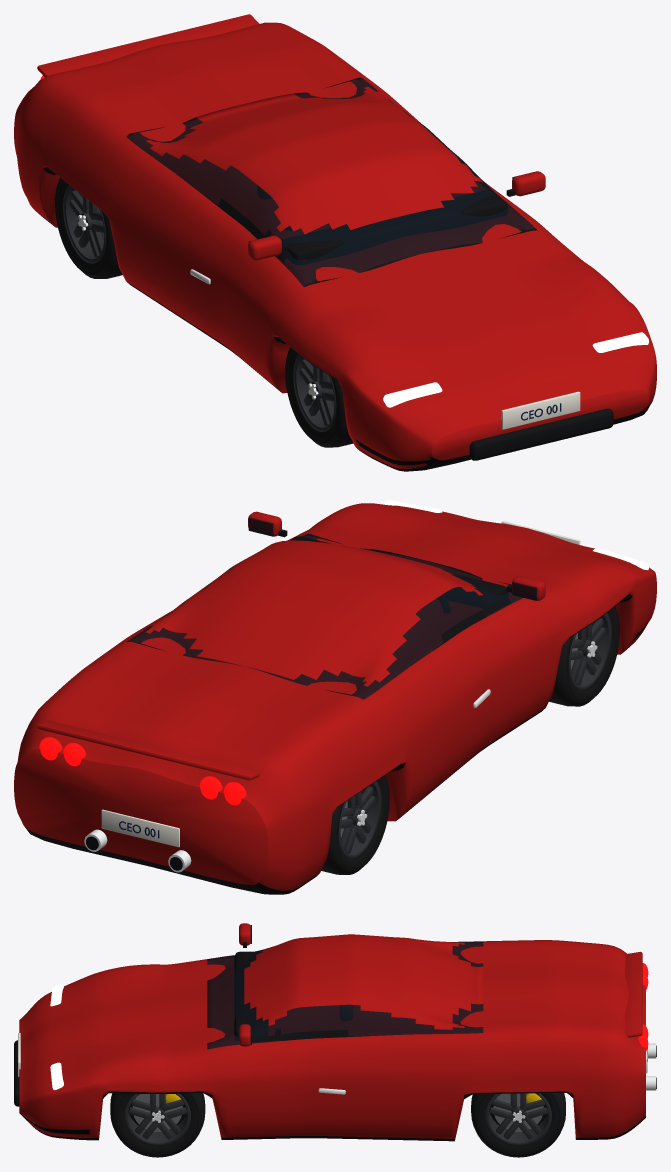
File: rosso_ceo.glb
The picture shows the model from 3 angles, top to bottom: view 1: azimuth 30°, elevation 25°; view 2: azimuth 150°, elevation 25°; view 3: azimuth 270°, elevation 25°; orthographic projection. The views are drawn at different scales.
Parts seen in each view (by area): view 1: body, wheel_FL, wheel_RL; view 2: body, wheel_FL, wheel_RL; view 3: body, wheel_RR, wheel_FR.
Part boxes in pixels (x1=…): body: x1=14, y1=14, x2=656, y2=471; wheel_FL: x1=285, y1=347, x2=353, y2=447; wheel_RL: x1=55, y1=177, x2=122, y2=278; body: x1=14, y1=500, x2=656, y2=894; wheel_FL: x1=549, y1=606, x2=619, y2=706; wheel_RL: x1=321, y1=775, x2=389, y2=874; body: x1=14, y1=923, x2=656, y2=1141; wheel_RR: x1=471, y1=1093, x2=565, y2=1157; wheel_FR: x1=110, y1=1093, x2=205, y2=1157.
Size of the model in its own units: 1.99 by 1.2 by 4.74.
